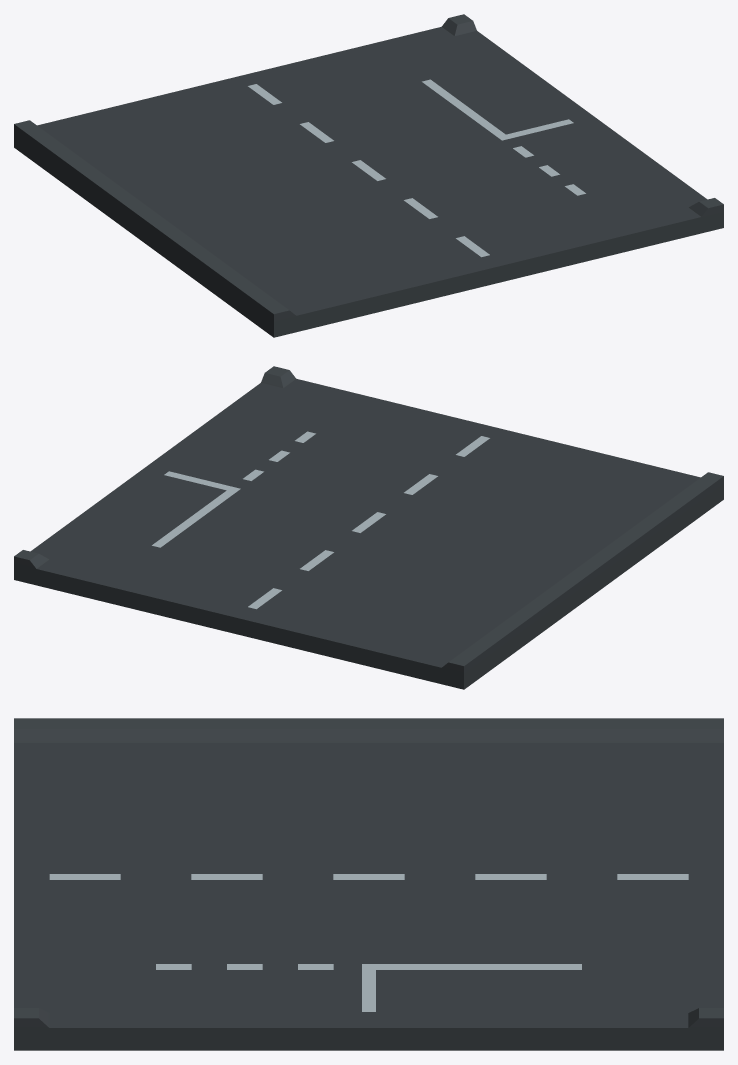
The model's file is road_tsplit.obj.
3 views of the same model, one above another, from view 1: azimuth 30°, elevation 25°; view 2: azimuth 150°, elevation 25°; view 3: azimuth 270°, elevation 25° (orthographic). The views are drawn at different scales.
Parts seen in each view (by area): view 1: road_tsplit_Cube.950; view 2: road_tsplit_Cube.950; view 3: road_tsplit_Cube.950.
Part boxes in pixels (x1,y1,x2,y2): road_tsplit_Cube.950: (14,14,723,337); road_tsplit_Cube.950: (14,366,723,689); road_tsplit_Cube.950: (14,718,723,1050).
Bounding box in the file's own units: 2 × 0.1 × 2.
